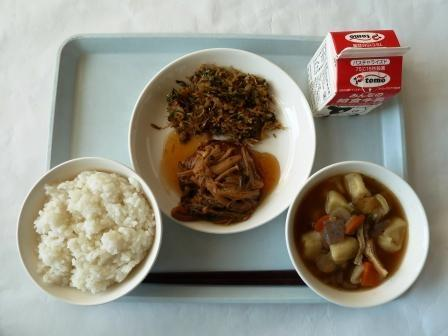Meat: (160, 139, 285, 227)
Milk: (315, 20, 406, 120)
Rice: (13, 163, 159, 295)
Soups: (288, 163, 424, 300)
cereal based cooked food: (165, 65, 280, 140)
